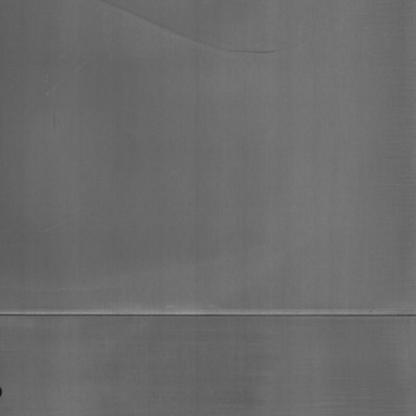welding_line: (0, 299, 415, 330)
